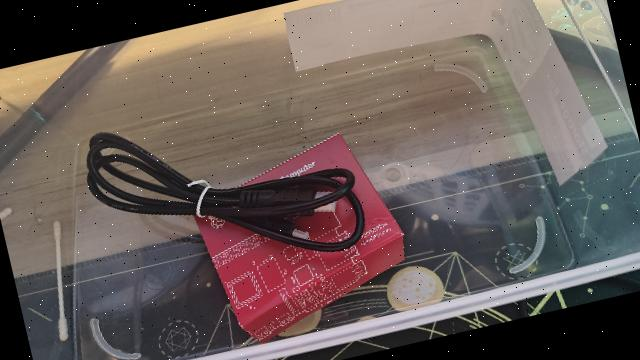hdmi_cable: (74, 71, 396, 360)
rpi_box: (178, 116, 425, 349)
